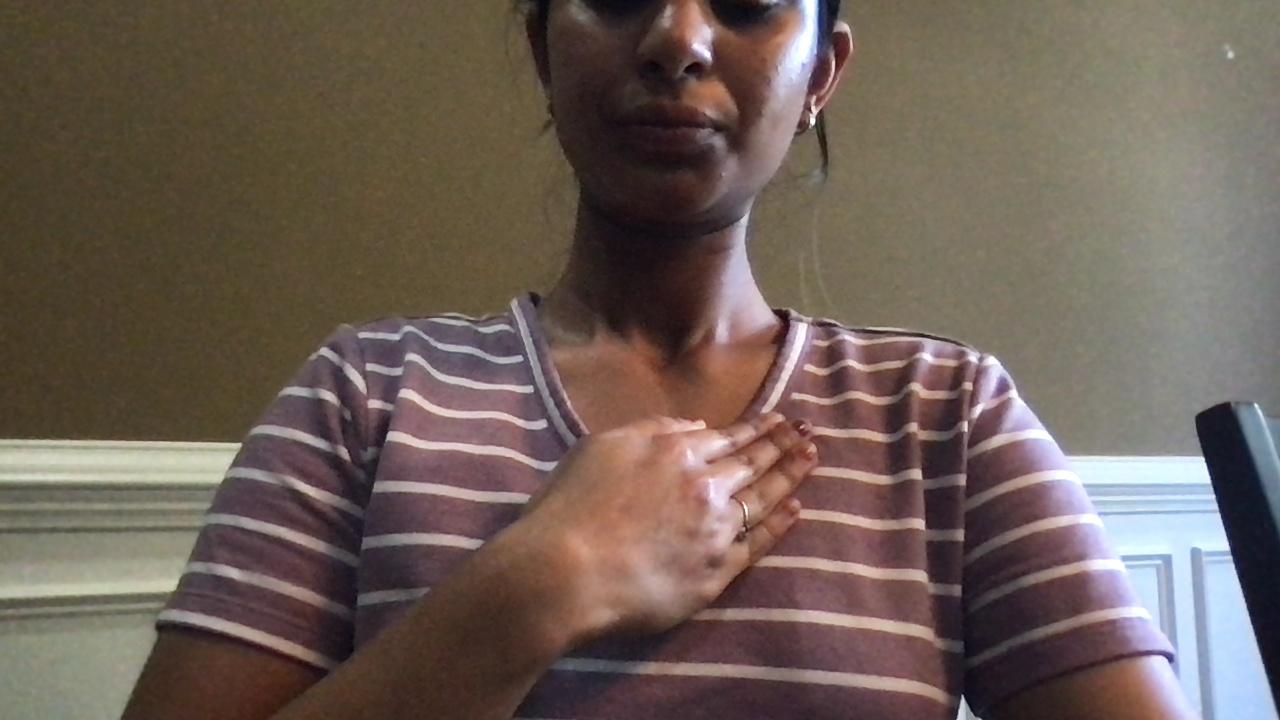Please: (470, 397, 865, 644)
